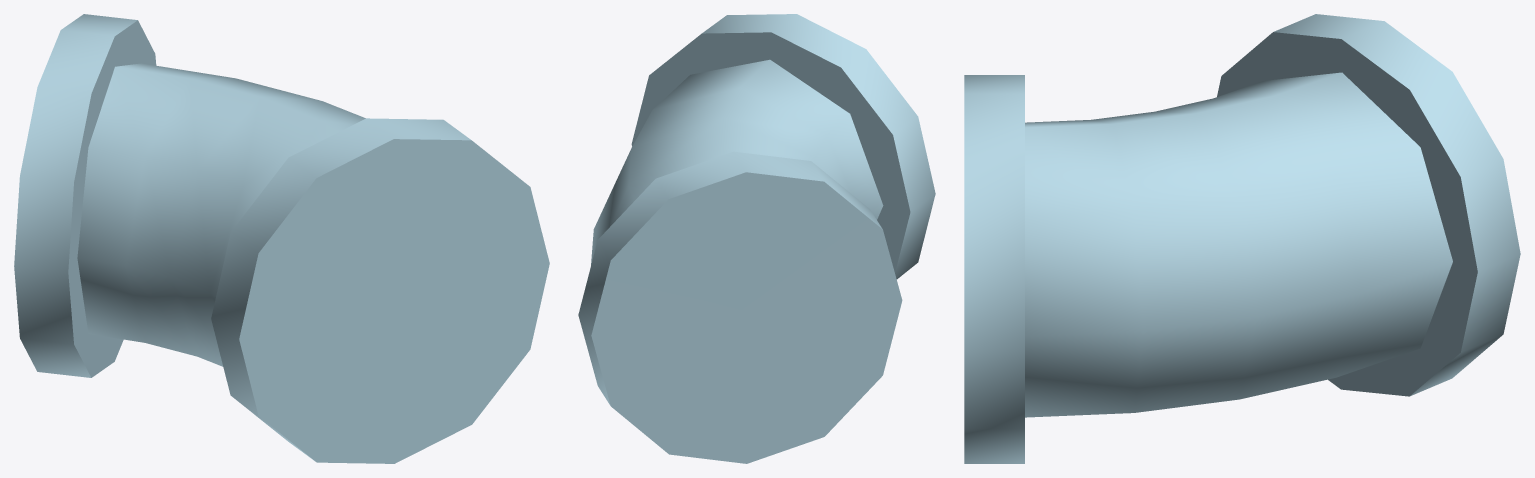
Rendered from pipe01_45degree01.fbx.
3 renders of one model, left to right at view 1: azimuth 30°, elevation 25°; view 2: azimuth 150°, elevation 25°; view 3: azimuth 270°, elevation 25°, orthographic. The views are drawn at different scales.
Visible parts, largest first — view 1: pipe01_45degree01_reference; view 2: pipe01_45degree01_reference; view 3: pipe01_45degree01_reference.
Part boxes in pixels (x1,y1,x2,y2): pipe01_45degree01_reference: (14, 14, 549, 463); pipe01_45degree01_reference: (578, 14, 935, 463); pipe01_45degree01_reference: (964, 14, 1520, 463).
Bounding box in the file's own units: 767 × 589 × 847.
